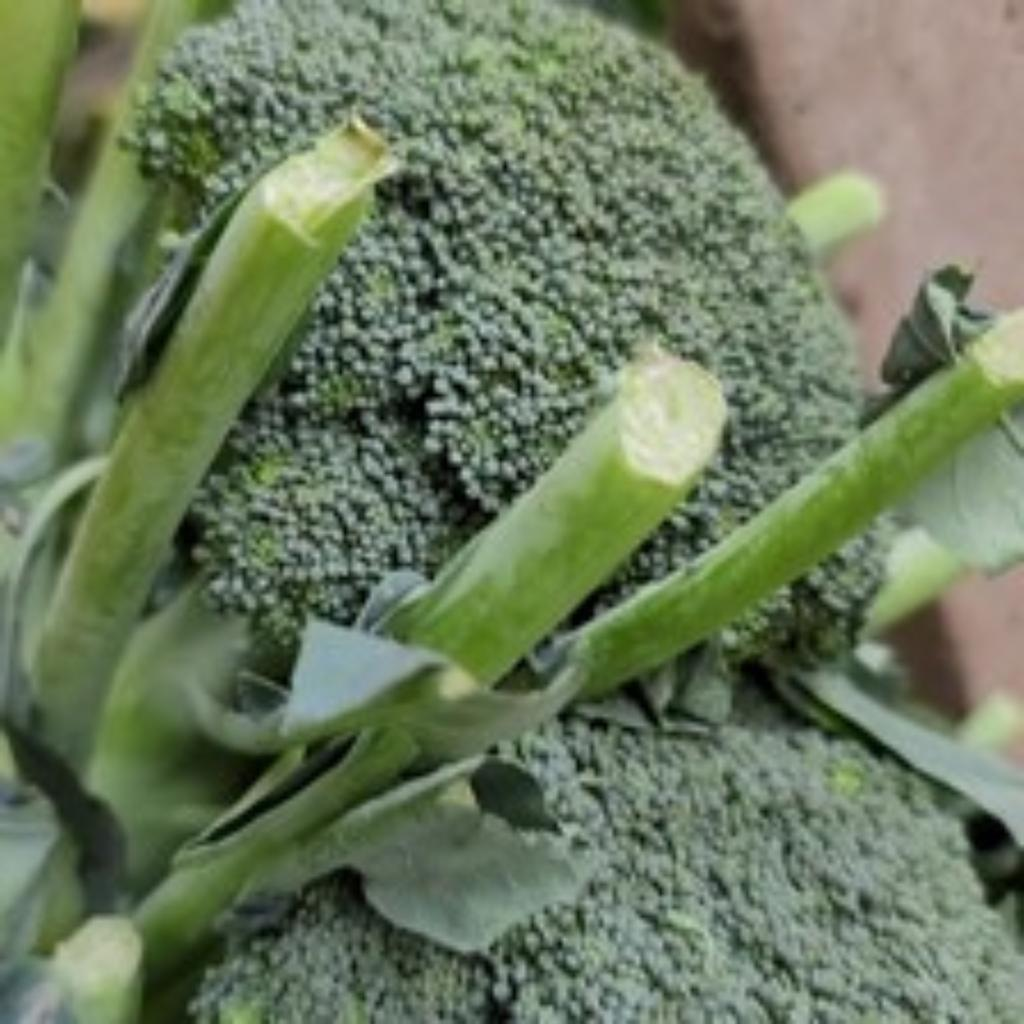Broccoli: (136, 0, 854, 627), (134, 0, 854, 625), (192, 718, 1024, 1024), (194, 720, 1016, 1024)
